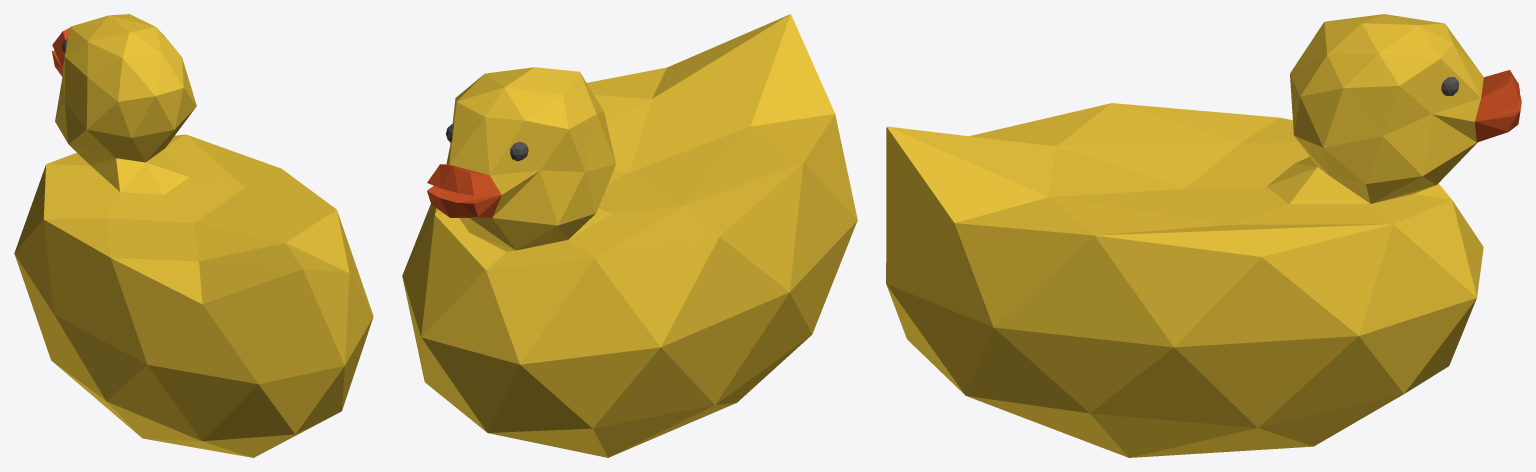
The model's file is duck.dae.
3 renders of one model, left to right at view 1: azimuth 30°, elevation 25°; view 2: azimuth 150°, elevation 25°; view 3: azimuth 270°, elevation 25°, orthographic. The views are drawn at different scales.
Visible parts, largest first — view 1: Icosphere_000, Icosphere_006; view 2: Icosphere_000, Icosphere_006; view 3: Icosphere_000, Icosphere_006.
Boxes of the visible parts, x1,y1,x2,y2 form: Icosphere_000: (14,14,373,457); Icosphere_006: (52,28,69,76); Icosphere_000: (402,14,857,457); Icosphere_006: (427,164,501,217); Icosphere_000: (886,14,1483,457); Icosphere_006: (1475,70,1521,142).
Bounding box in the file's own units: 0.2278 × 0.3737 × 0.2707.
